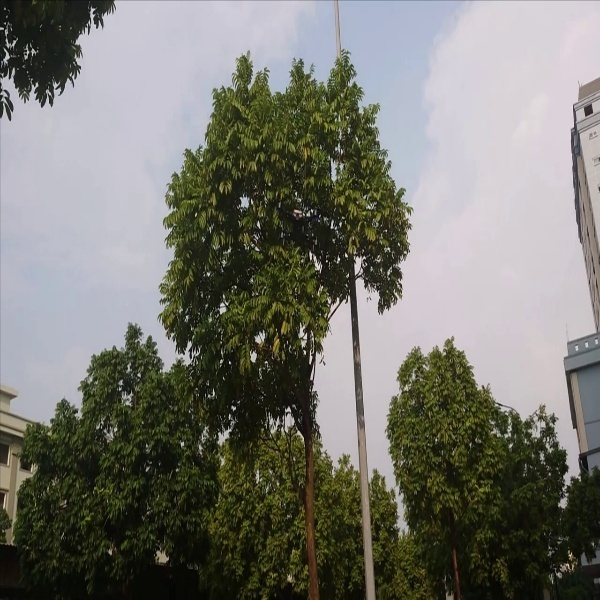drone: (272, 202, 322, 236)
